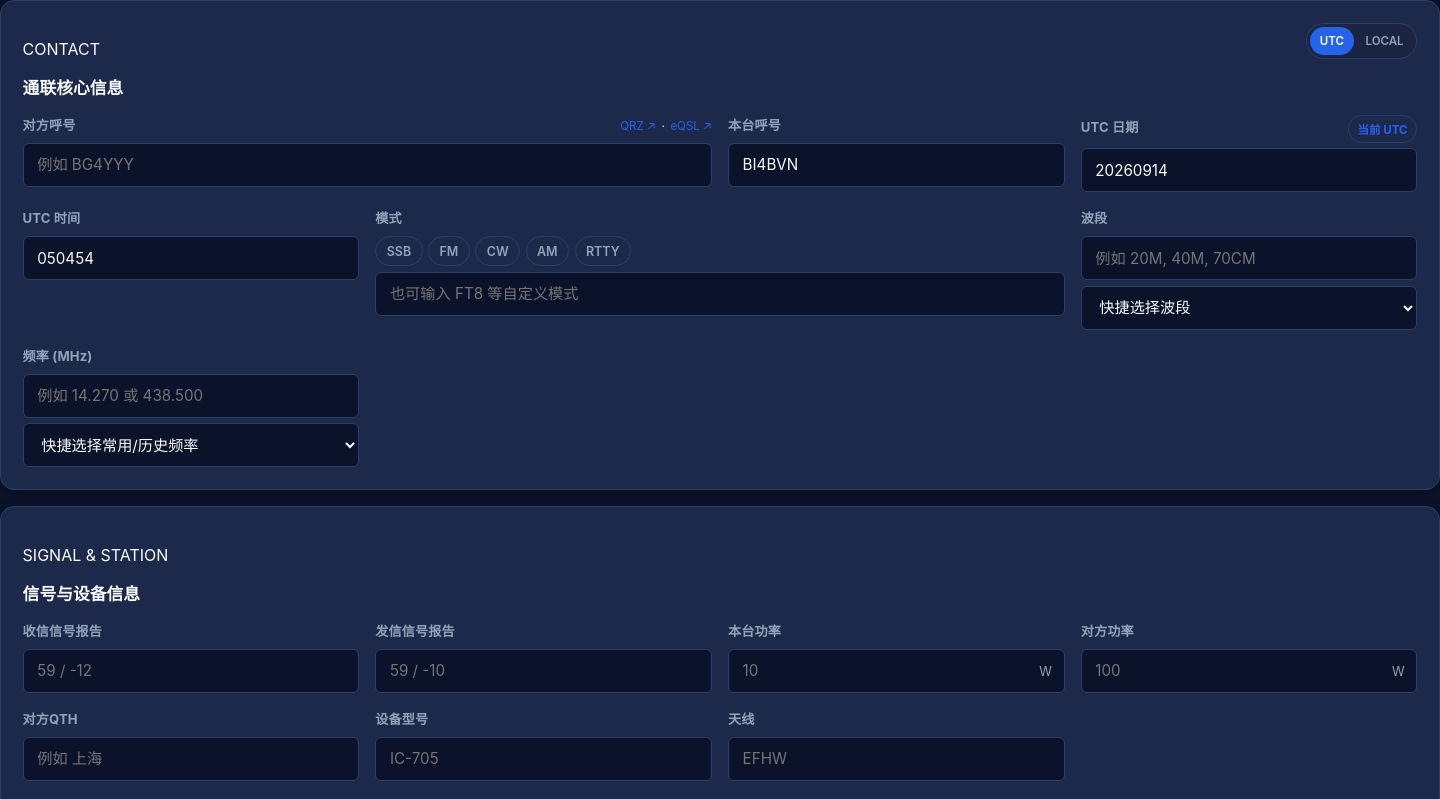
Test: QsoForm › updates frequency automatically when band changes
The width and height of the screenshot is (1440, 799).
Type "70CM" into the field labelled "波段".
click(1249, 258); type("70CM")  # box [1081,236,1417,280]
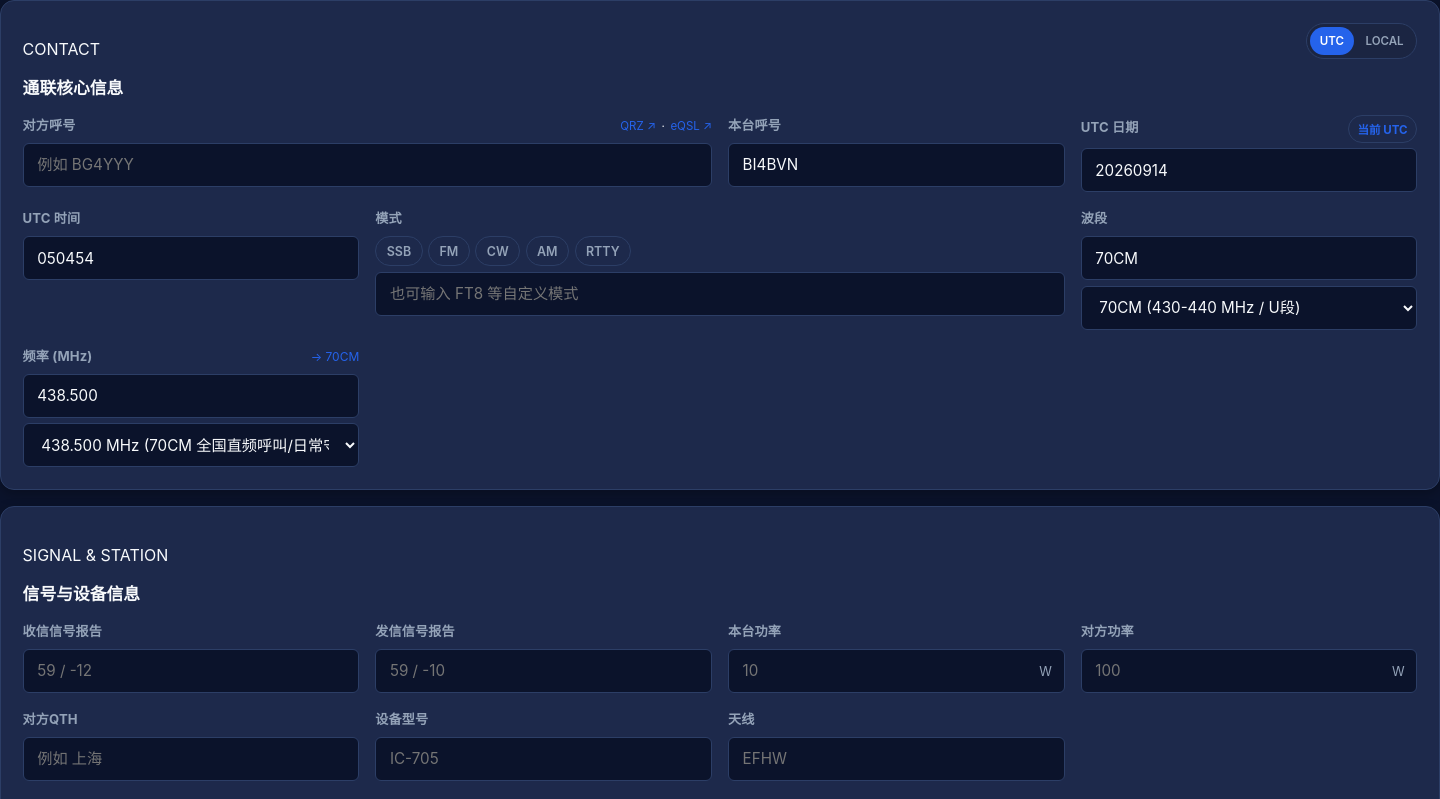
Check: the field labelled "频率 (MHz)" holds "438.500", box [23,374,359,418]
Replace the text in the field labelled "波段" with "20M" at coordinates (1249, 258), box [1081,236,1417,280]
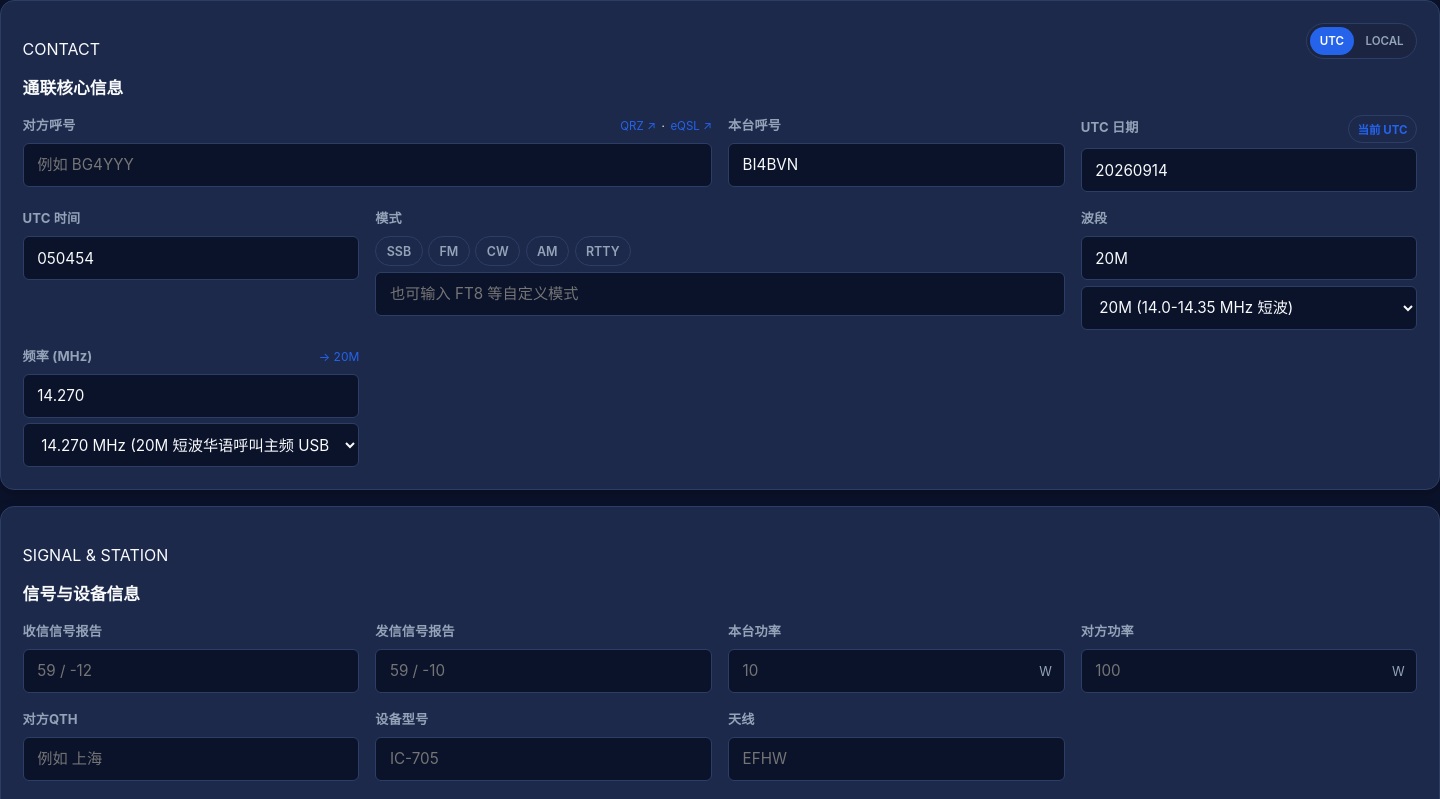
Check: the field labelled "频率 (MHz)" holds "14.270", box [23,374,359,418]
Replace the text in the field labelled "波段" with "40M" at coordinates (1249, 258), box [1081,236,1417,280]
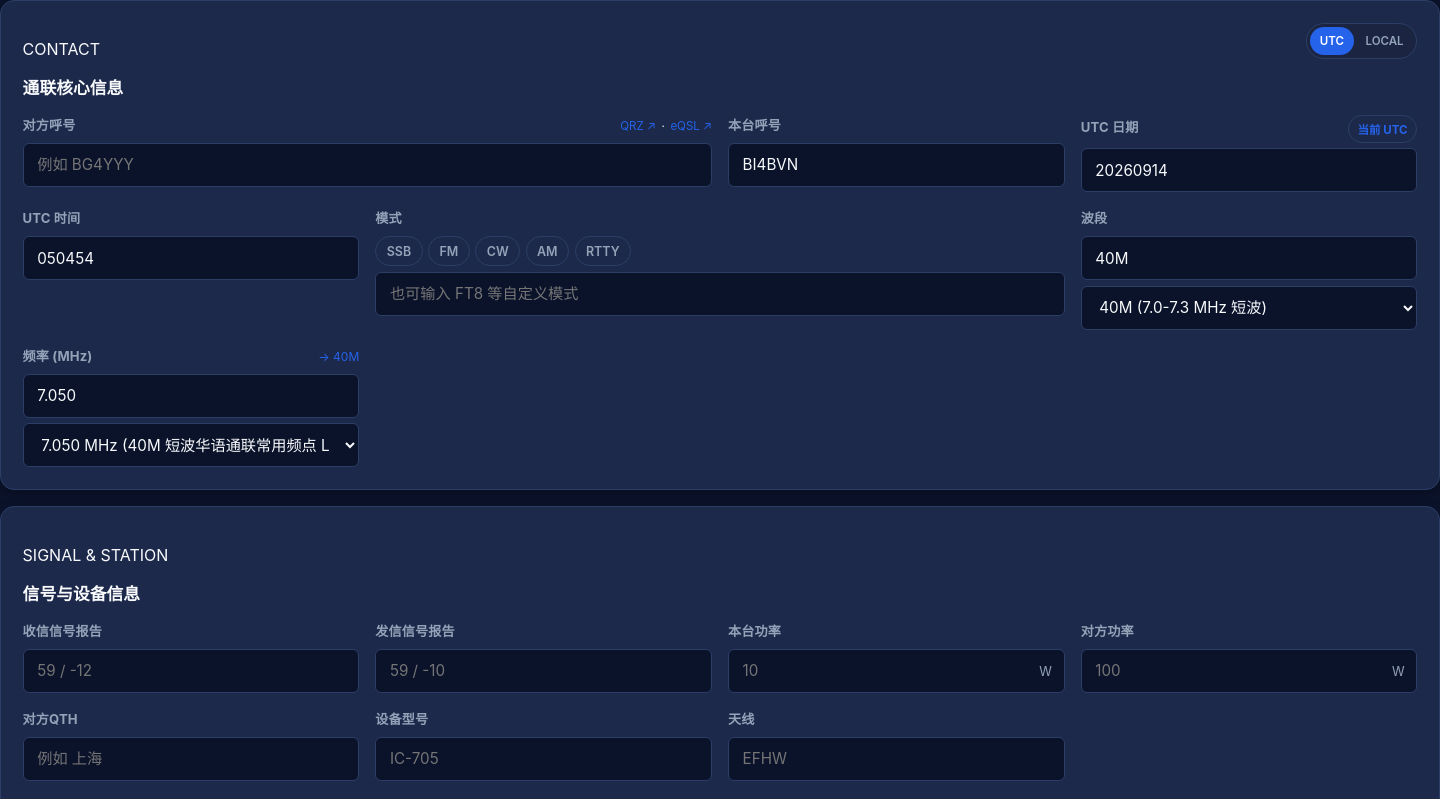
Check: the field labelled "频率 (MHz)" holds "7.050", box [23,374,359,418]
